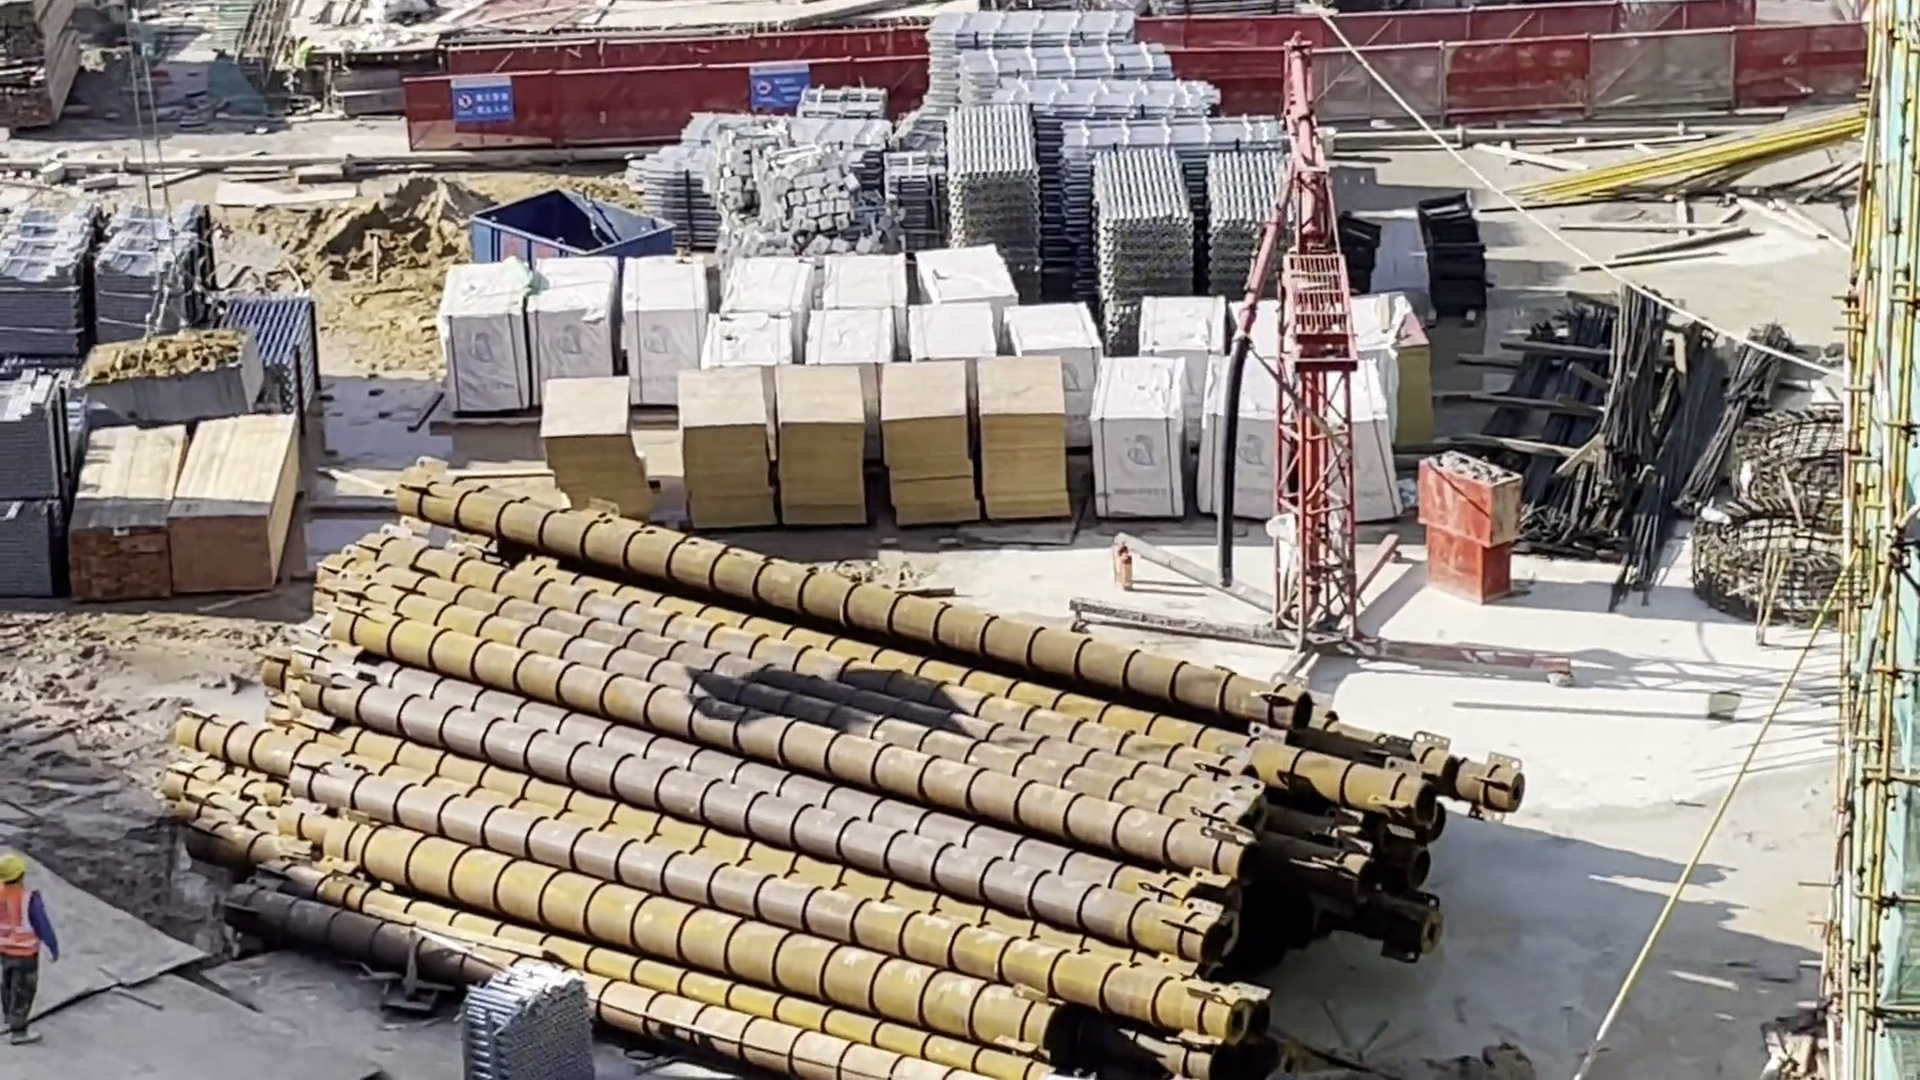board: (179, 425, 284, 596), (882, 359, 971, 534), (543, 380, 647, 519), (989, 365, 1071, 529), (684, 369, 764, 519), (781, 358, 852, 520)
fence: (1209, 33, 1845, 117), (419, 67, 913, 140), (1124, 9, 1786, 40), (461, 30, 890, 69)
helmet: (1, 852, 29, 879)
hopper: (469, 179, 665, 253), (74, 331, 248, 409)
person: (1, 844, 67, 1053)
rebar: (1486, 321, 1595, 520), (1667, 331, 1788, 508), (1622, 354, 1711, 570), (1446, 331, 1541, 481), (1576, 306, 1652, 478)
scaffold: (1103, 163, 1196, 297), (443, 979, 559, 1080), (1206, 139, 1280, 279), (229, 304, 325, 409), (1005, 80, 1192, 128), (947, 8, 1135, 45), (957, 145, 1021, 237), (644, 167, 716, 245), (1072, 121, 1276, 147), (967, 55, 1164, 69)
slogan: (448, 78, 524, 126), (750, 67, 811, 108)
vest: (1, 886, 48, 958)
wood: (71, 437, 169, 600), (1, 1, 52, 57), (3, 79, 49, 131)
